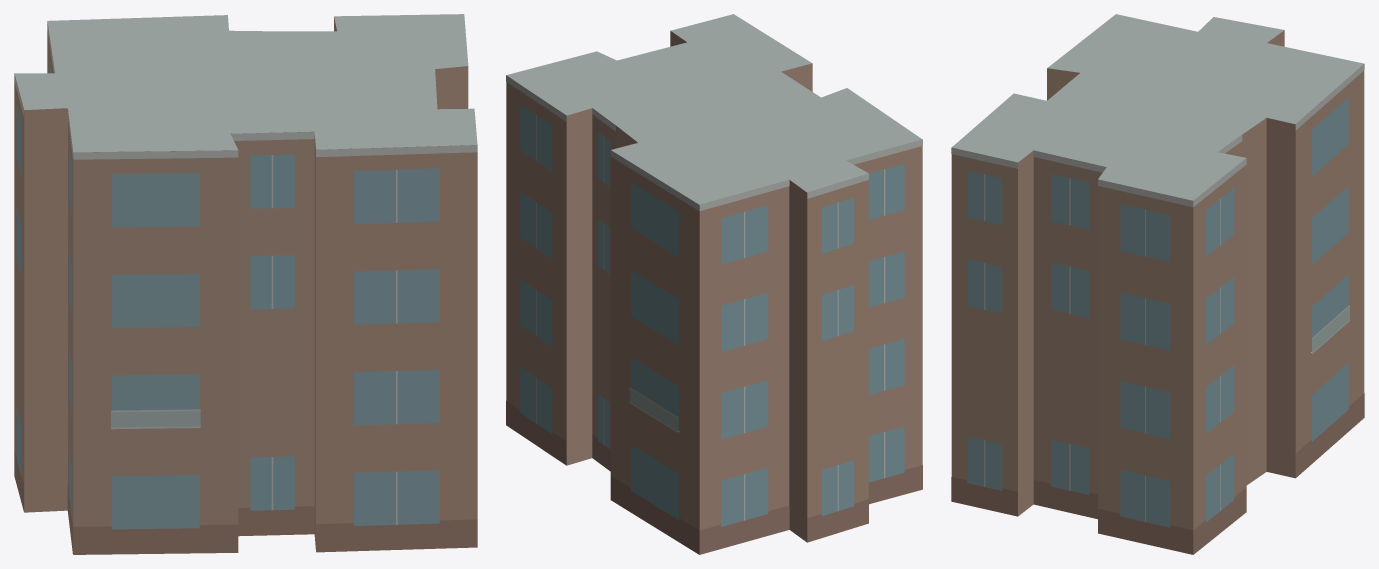
File: survey-upis-32530437.glb
3 views of the same model, side by side, from view 1: azimuth 30°, elevation 25°; view 2: azimuth 150°, elevation 25°; view 3: azimuth 270°, elevation 25° (orthographic). The views are drawn at different scales.
Visible parts, largest first — view 1: survey-upis-32530437.tmp; view 2: survey-upis-32530437.tmp; view 3: survey-upis-32530437.tmp.
Part boxes in pixels (x1,y1,x2,y2): survey-upis-32530437.tmp: (14, 14, 477, 554); survey-upis-32530437.tmp: (506, 14, 922, 554); survey-upis-32530437.tmp: (951, 14, 1364, 554).
Size of the model in its own units: 15.06 by 13.3 by 14.07.
